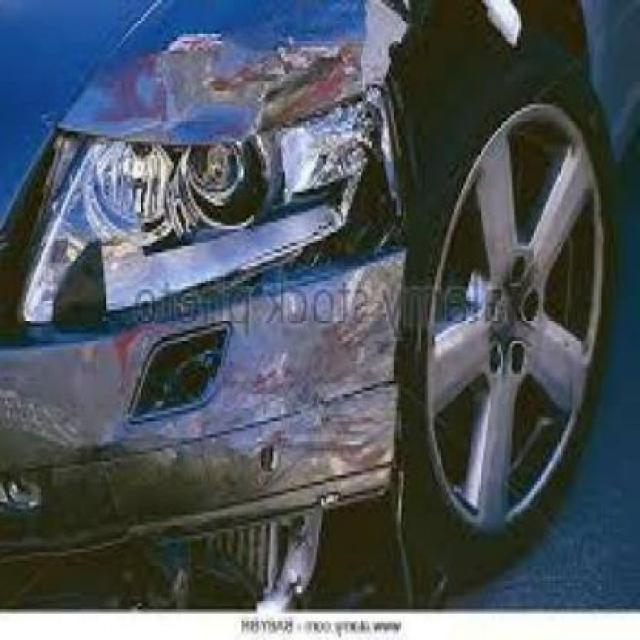damage: (2, 5, 441, 613)
